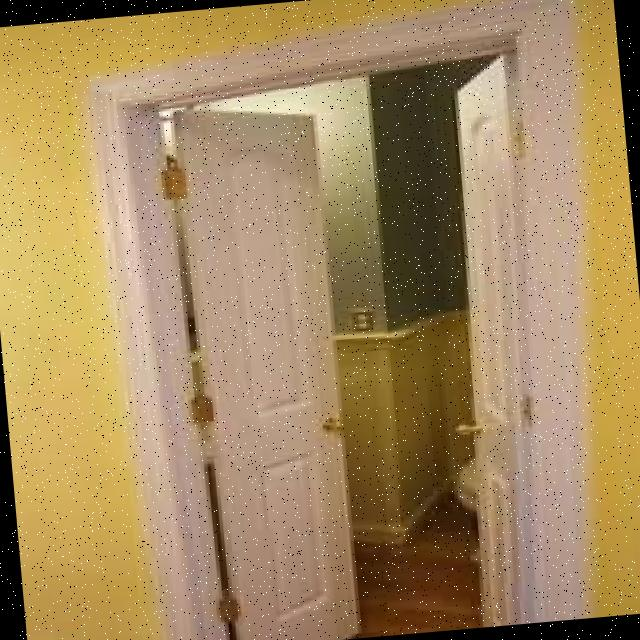Door: (160, 75, 362, 640), (430, 50, 556, 627)
